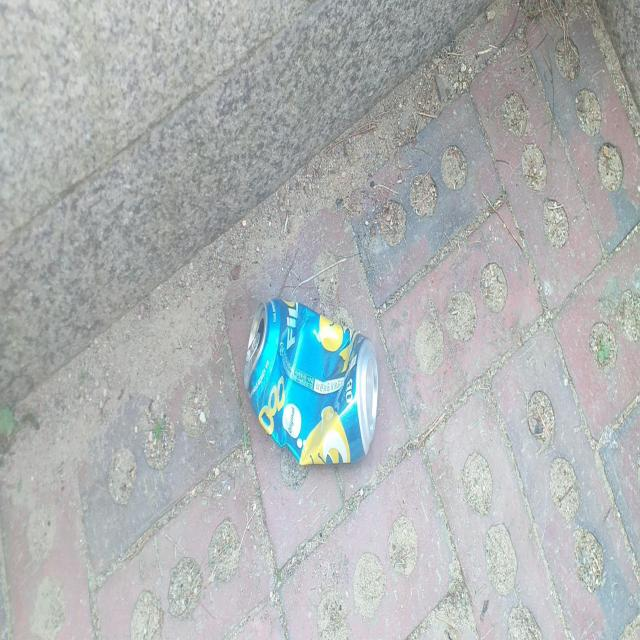can: (244, 298, 378, 465)
